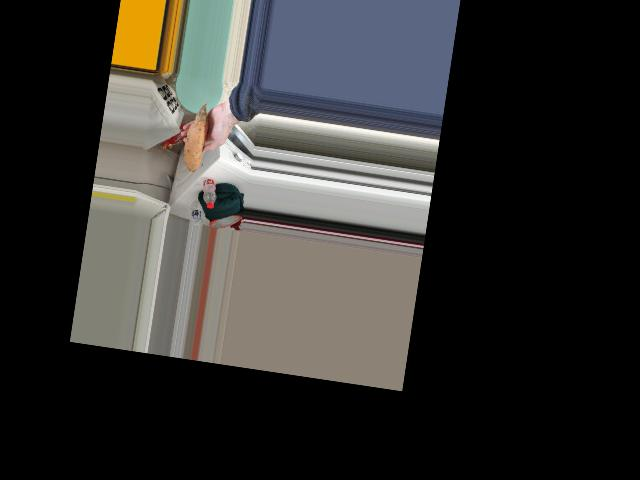sweet_potato: (180, 115, 213, 179)
